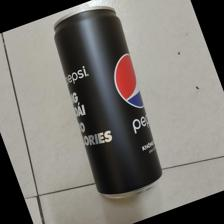Pepsi: (53, 6, 166, 203)
